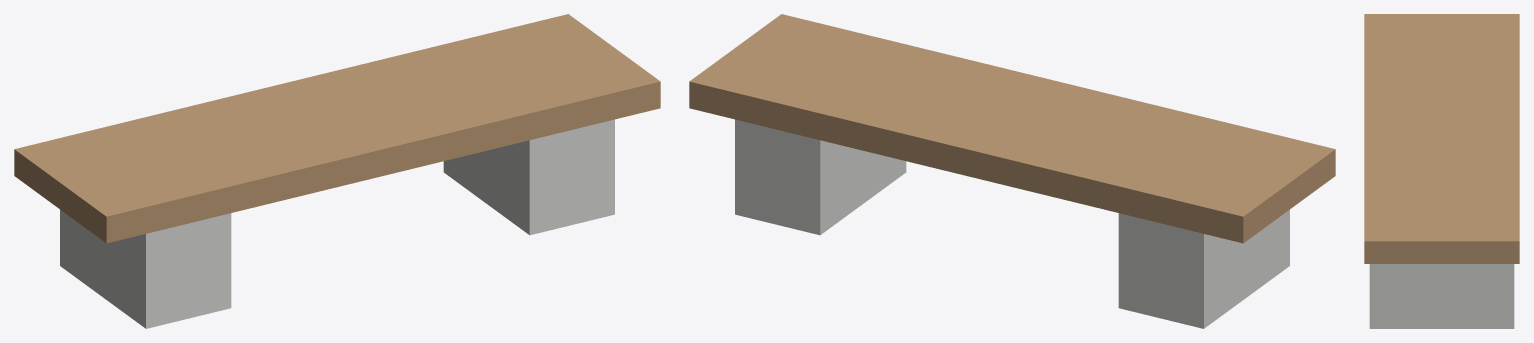
The model's file is bench_modern.glb.
3 renders of one model, left to right at view 1: azimuth 30°, elevation 25°; view 2: azimuth 150°, elevation 25°; view 3: azimuth 270°, elevation 25°, orthographic. The views are drawn at different scales.
Visible parts, largest first — view 1: bench_modern_body; view 2: bench_modern_body; view 3: bench_modern_body.
Boxes of the visible parts, left/top/right/bottom form: bench_modern_body: left=14, top=14, right=660, bottom=328; bench_modern_body: left=689, top=14, right=1335, bottom=328; bench_modern_body: left=1364, top=14, right=1519, bottom=328.
Bounding box in the file's own units: 0.26 × 0.056 × 0.075.
